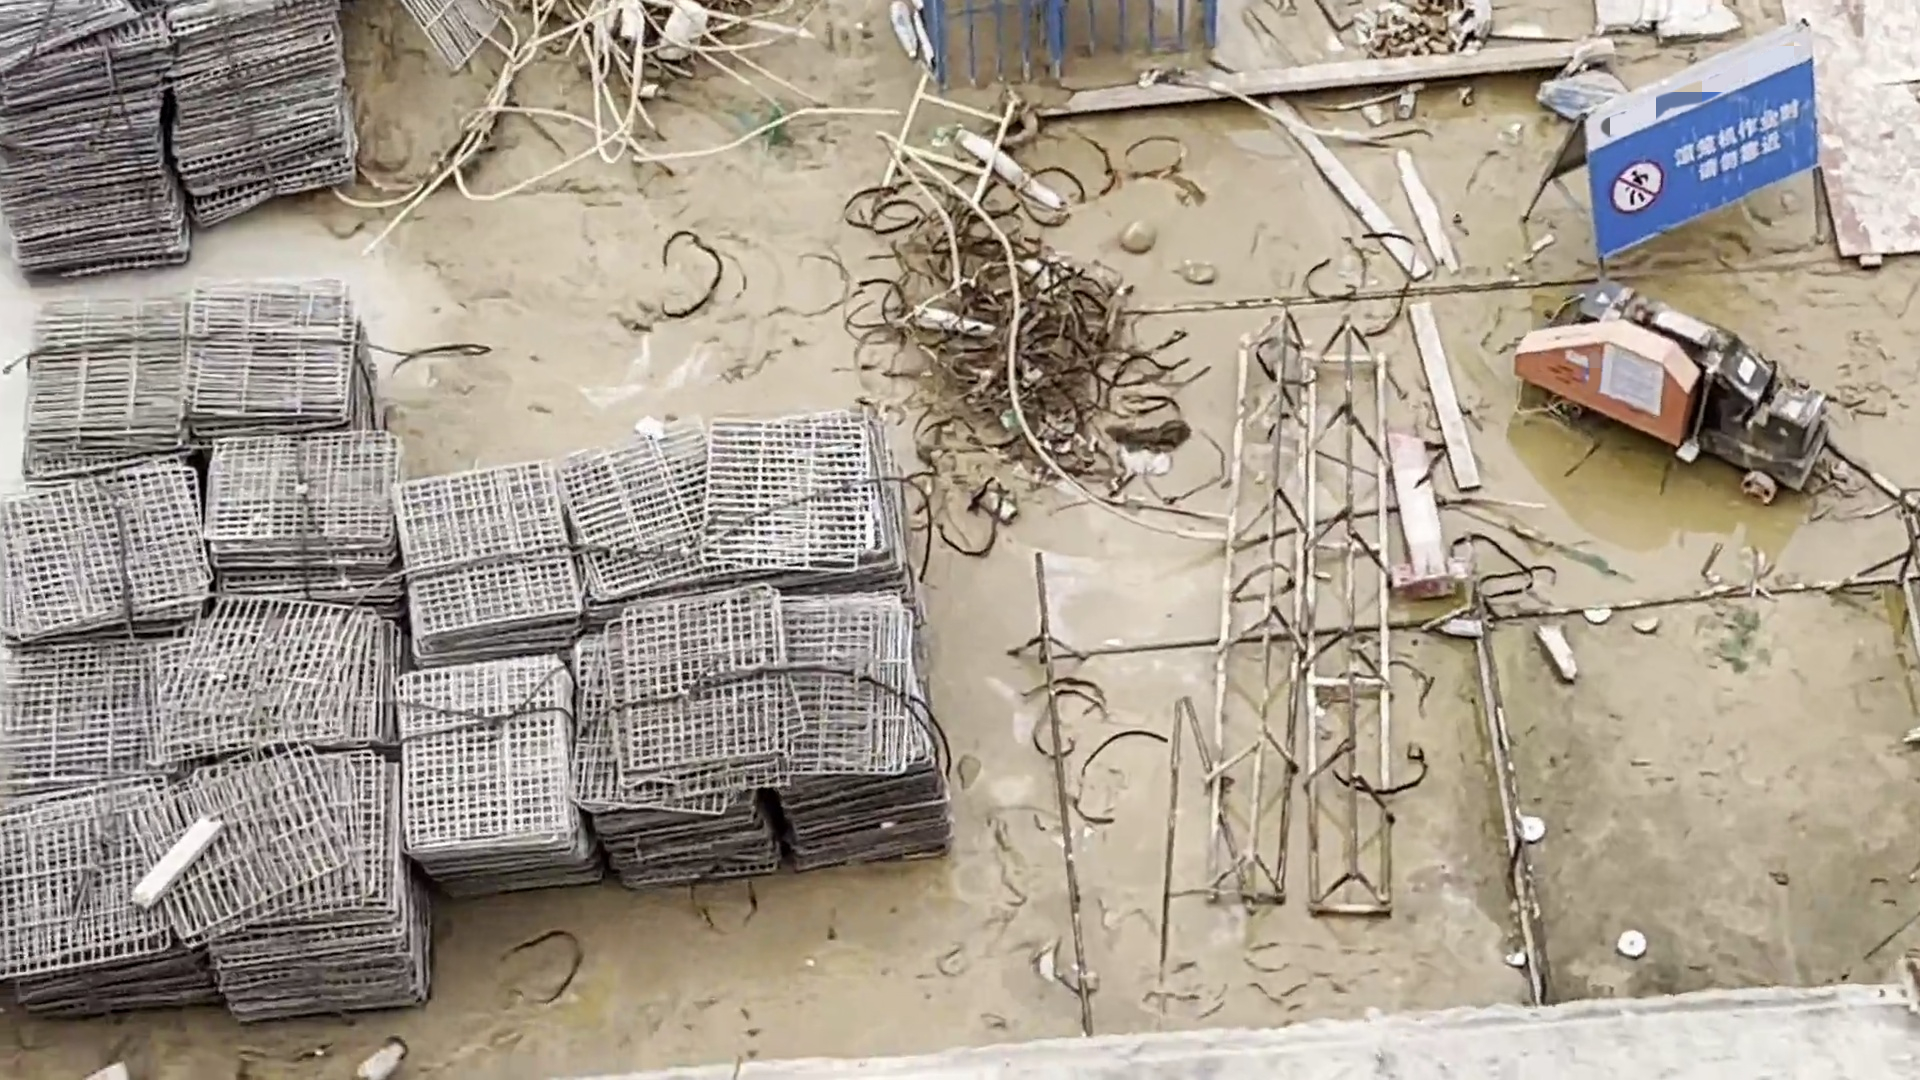slogan: (1596, 63, 1817, 261)
